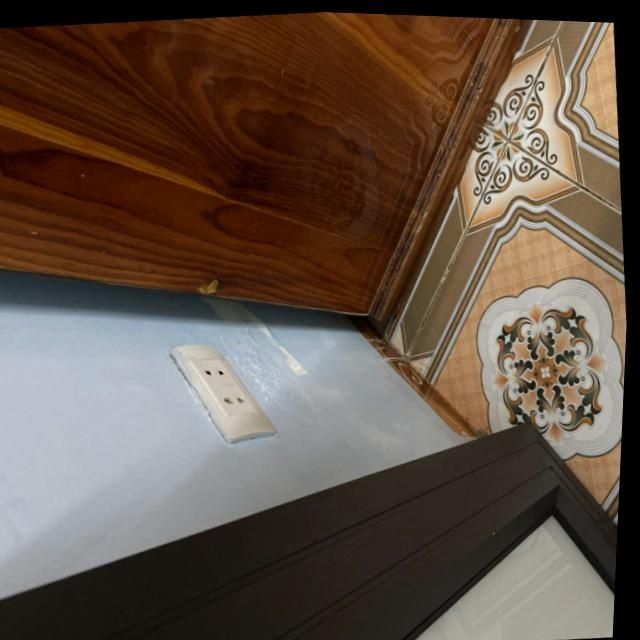outlet: (164, 335, 280, 449)
